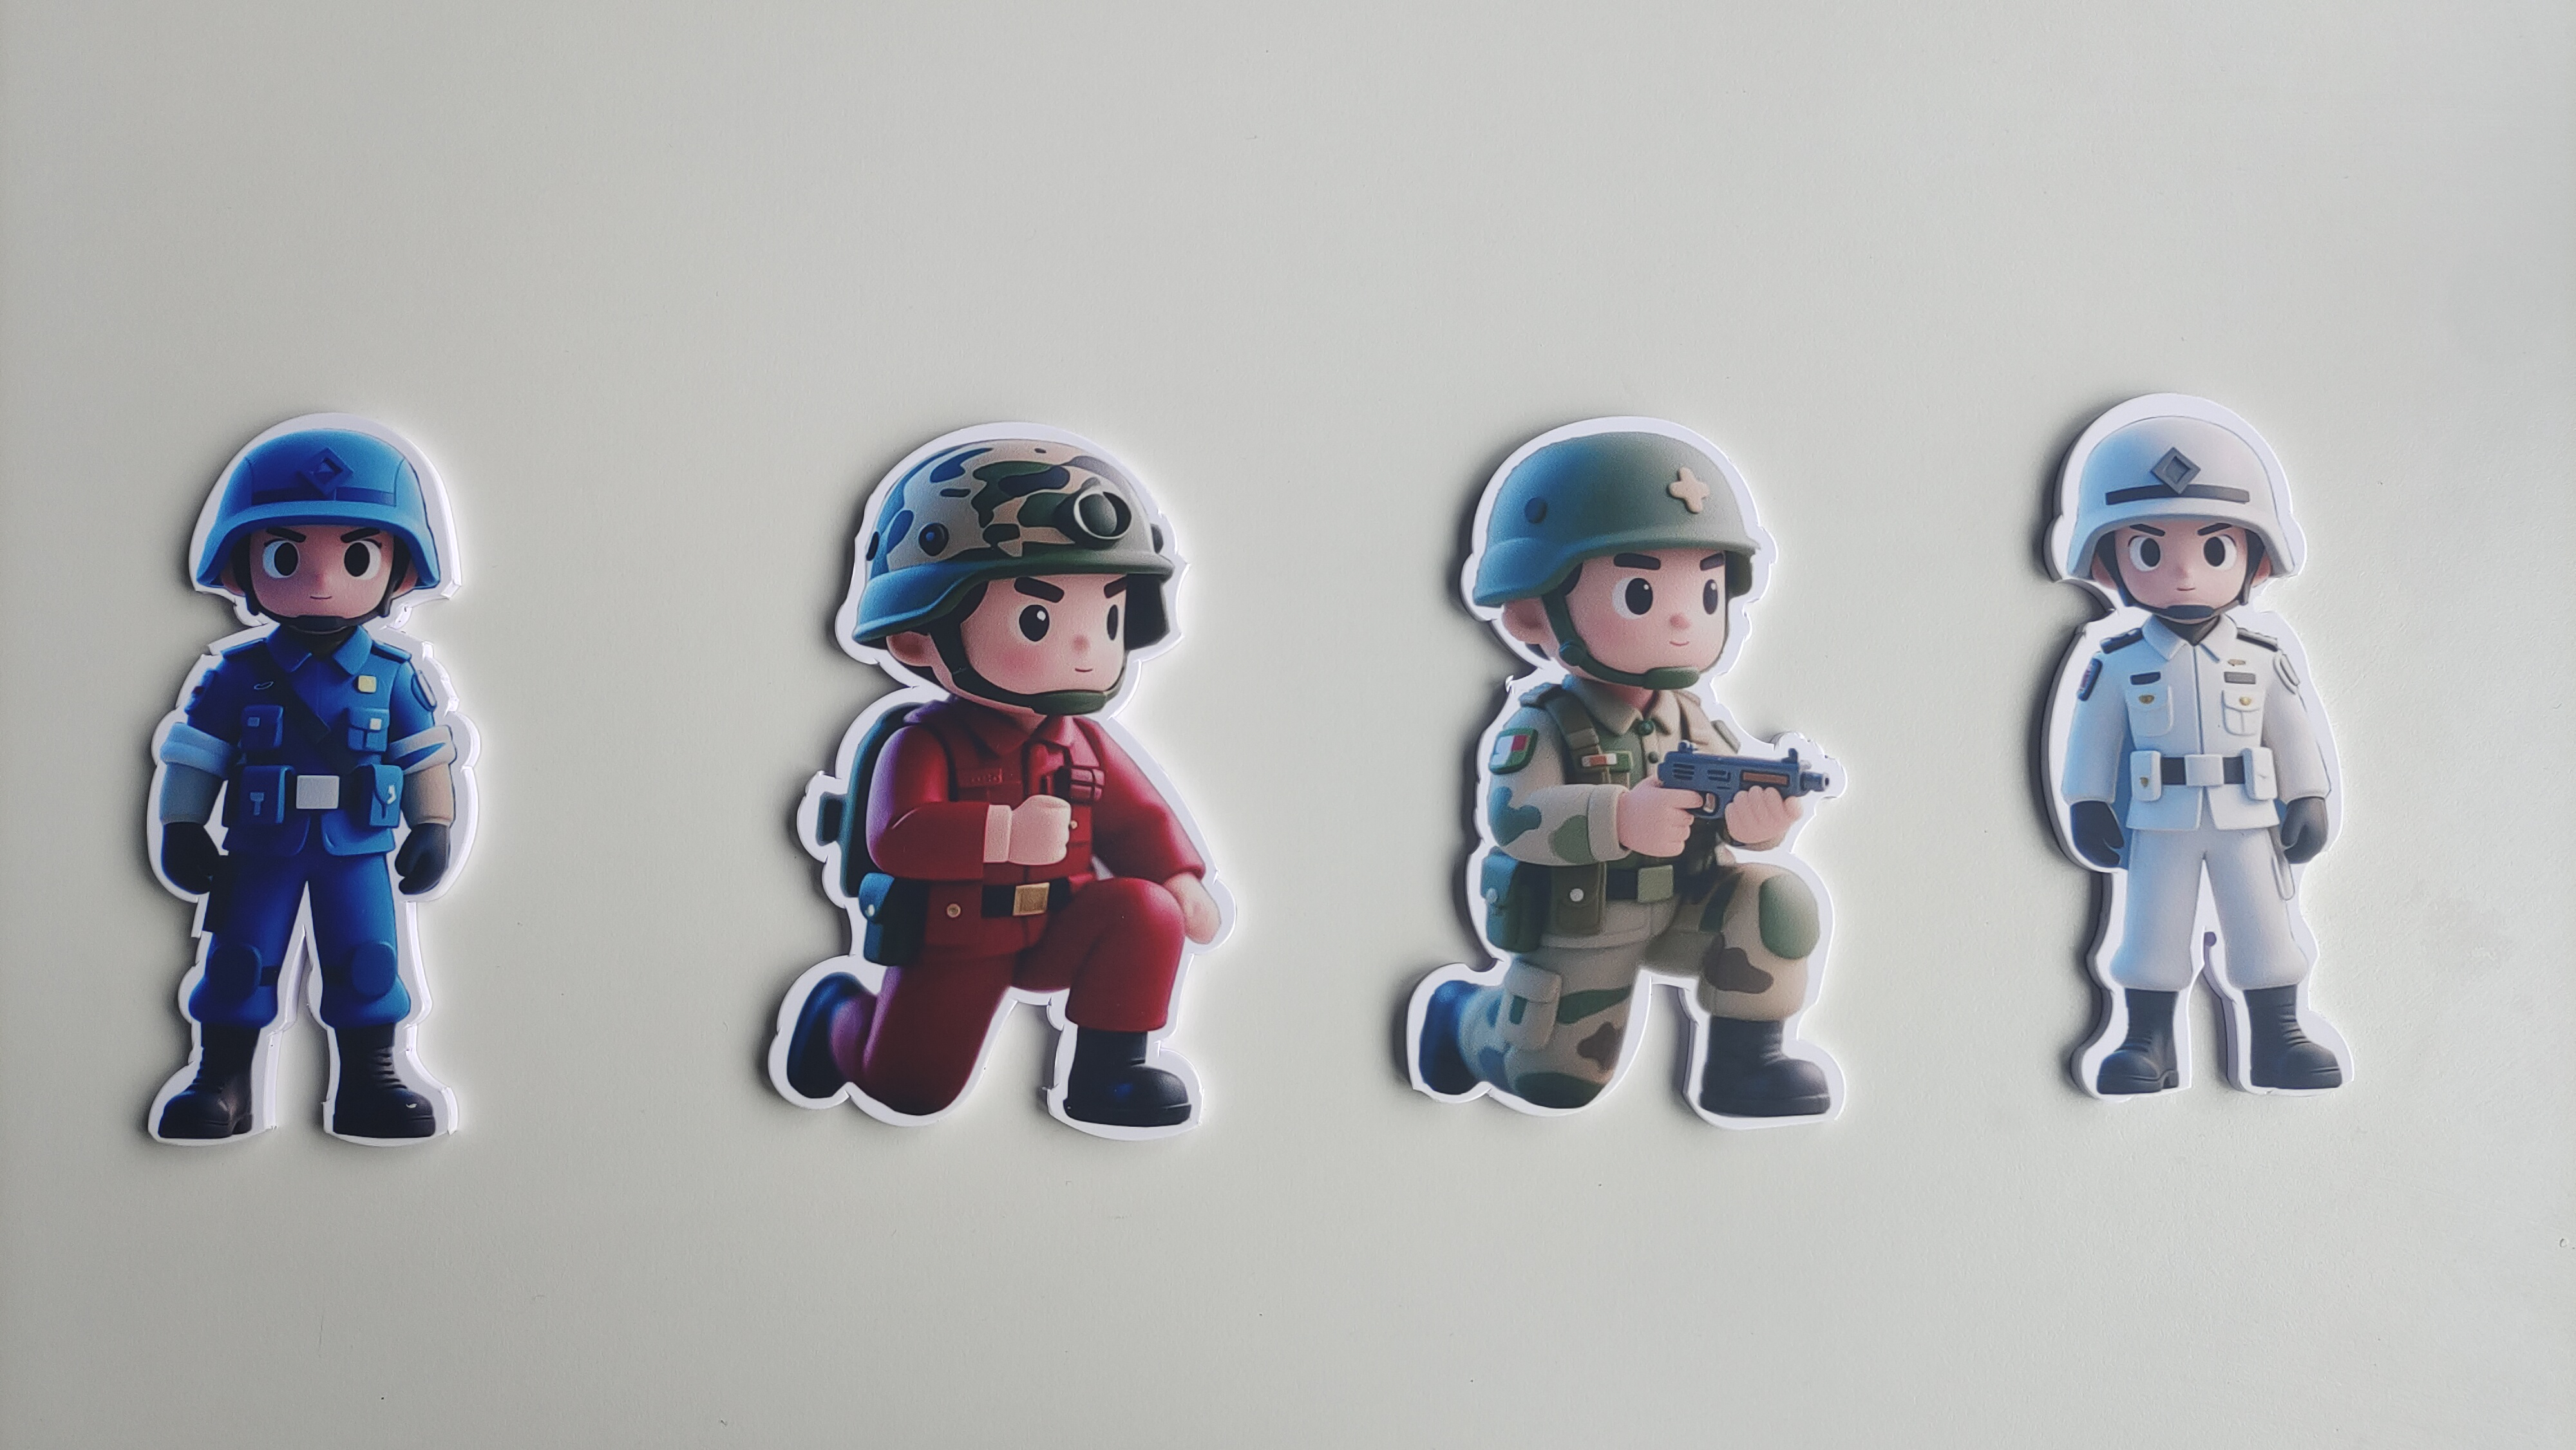enemy1: (748, 709, 1247, 1149)
enemy2: (131, 621, 474, 1165)
friend: (1376, 677, 1867, 1135)
hostage: (2026, 612, 2362, 1119)
